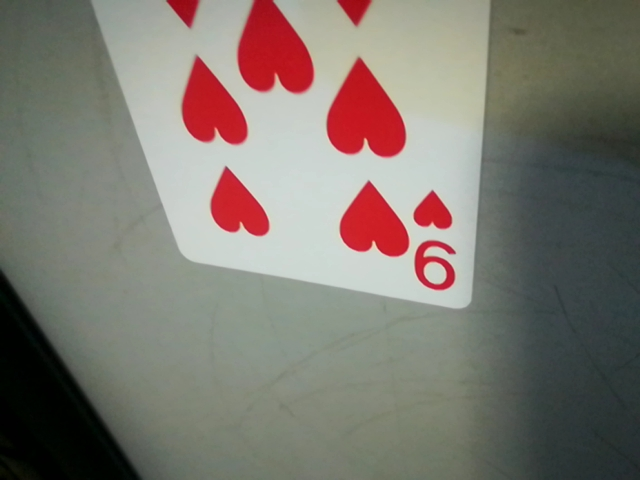hx 9: (402, 186, 472, 301)
